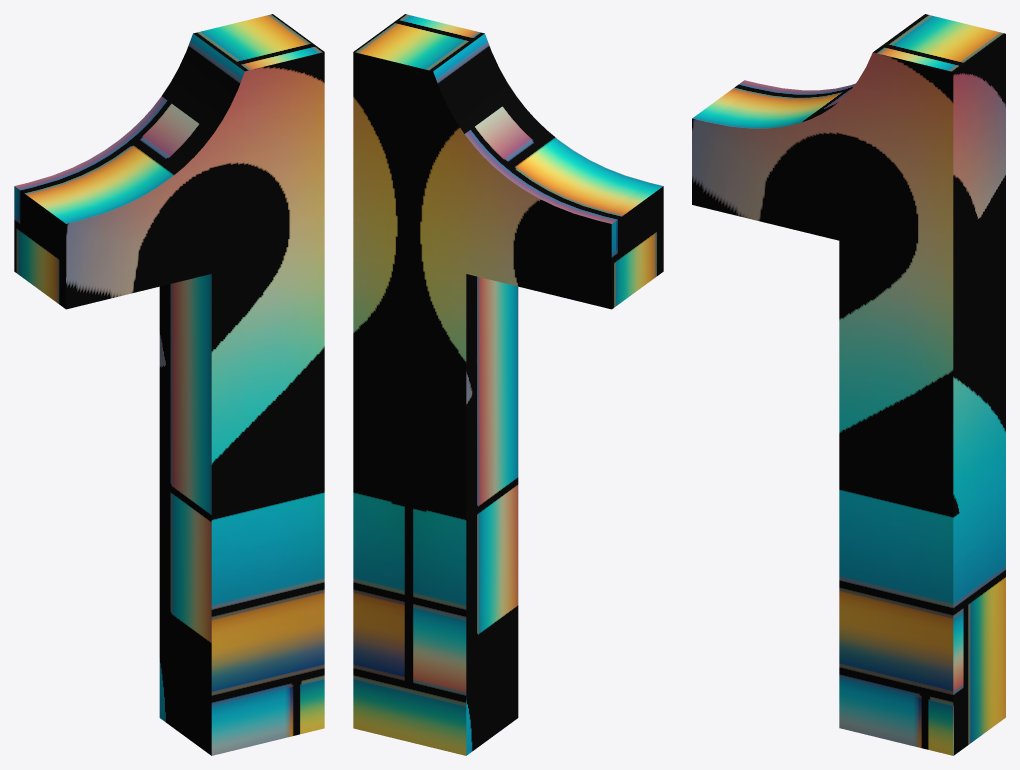
The picture shows the model from 3 angles, left to right: view 1: azimuth 30°, elevation 25°; view 2: azimuth 150°, elevation 25°; view 3: azimuth 330°, elevation 25°; orthographic projection.
Parts seen in each view (by area): view 1: Cap_1, 1; view 2: Cap_2, 1; view 3: Cap_1, 1.
Part boxes in pixels (x1,y1,x2,y2): Cap_1: [66, 52, 324, 755]; 1: [14, 14, 324, 755]; Cap_2: [353, 52, 611, 755]; 1: [353, 14, 663, 755]; Cap_1: [692, 52, 953, 755]; 1: [692, 14, 1005, 755].
Bounding box in the file's own units: 57.59 × 144 × 20.
